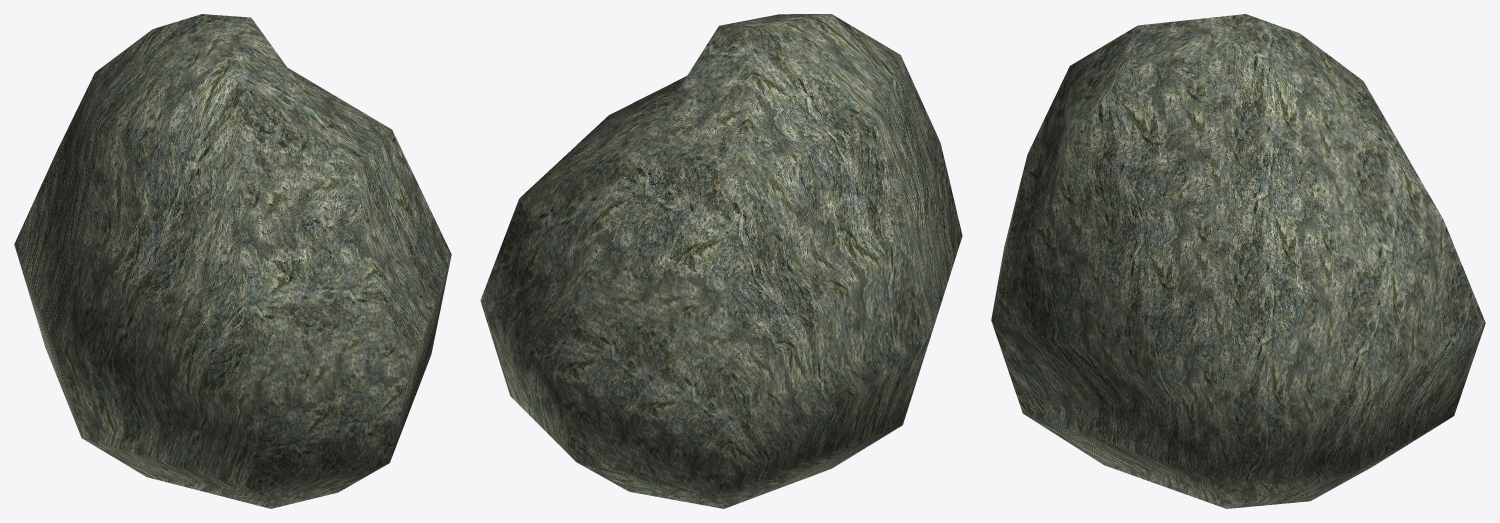
Rendered from mtns_rock_grey_a5_l0.fbx.
3 views of the same model, side by side, from view 1: azimuth 30°, elevation 25°; view 2: azimuth 150°, elevation 25°; view 3: azimuth 270°, elevation 25° (orthographic). The views are drawn at different scales.
Parts seen in each view (by area): view 1: mesh_node; view 2: mesh_node; view 3: mesh_node.
Boxes of the visible parts, <box> form: mesh_node: <box>14,14,451,508</box>; mesh_node: <box>480,14,962,508</box>; mesh_node: <box>991,14,1485,508</box>.
Bounding box in the file's own units: 1.66 × 1.79 × 1.89.
1 material, 1 textured.
